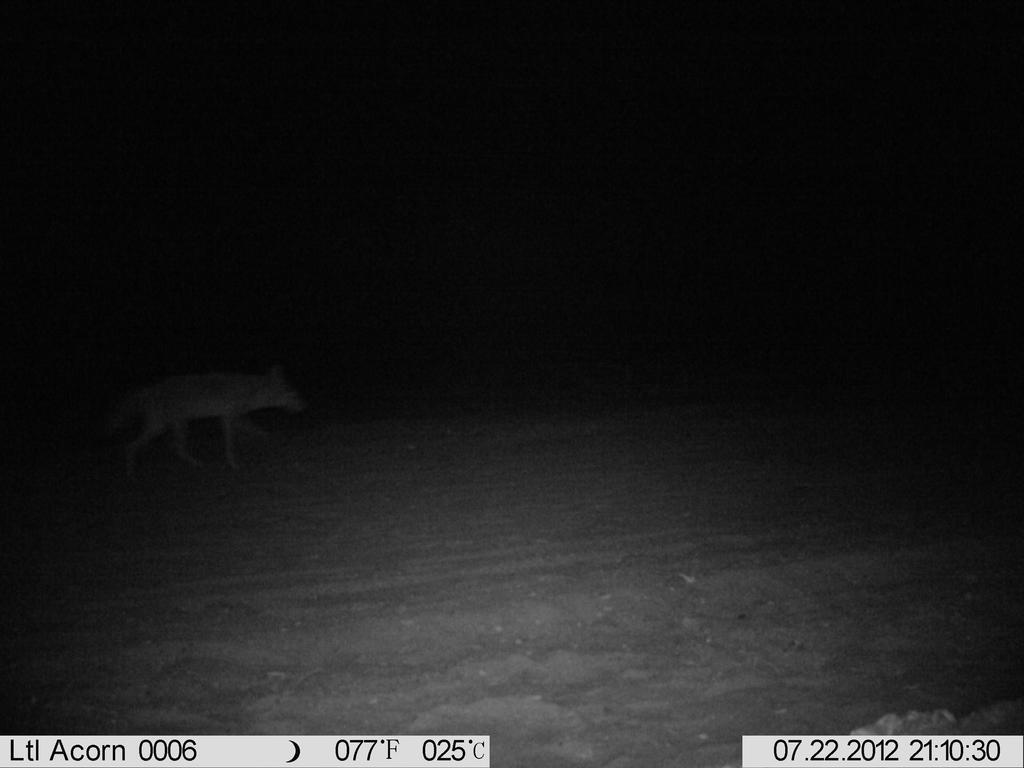coyote: (93, 354, 319, 485)
